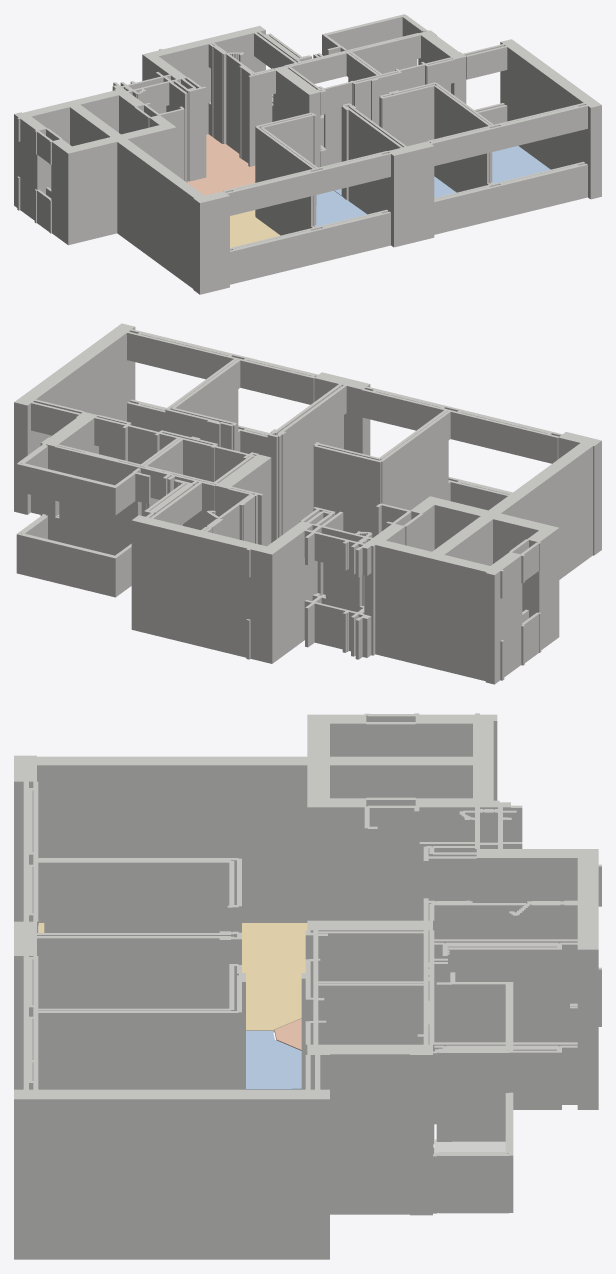
3 renders of one model, top to bottom at view 1: azimuth 30°, elevation 25°; view 2: azimuth 150°, elevation 25°; view 3: azimuth 270°, elevation 25°, orthographic. The views are drawn at different scales.
Parts seen in each view (by area): view 1: walls, room:kitchen:0, room:bedroom:9, room:living:4, room:bedroom:5; view 2: walls; view 3: walls, room:living:4, room:bedroom:5, room:ledge:6.
Boxes of the visible parts, x1=… form: walls: x1=14, y1=14, x2=601, y2=294; room:kitchen:0: x1=187, y1=134, x2=255, y2=195; room:bedroom:9: x1=492, y1=146, x2=550, y2=183; room:living:4: x1=230, y1=210, x2=280, y2=247; room:bedroom:5: x1=316, y1=191, x2=366, y2=226; walls: x1=14, y1=323, x2=601, y2=684; walls: x1=14, y1=713, x2=601, y2=1259; room:living:4: x1=38, y1=923, x2=307, y2=1032; room:bedroom:5: x1=246, y1=1030, x2=301, y2=1089; room:ledge:6: x1=434, y1=1139, x2=505, y2=1153.
Size of the model in its own units: 14.45 by 2.8 by 9.3.
